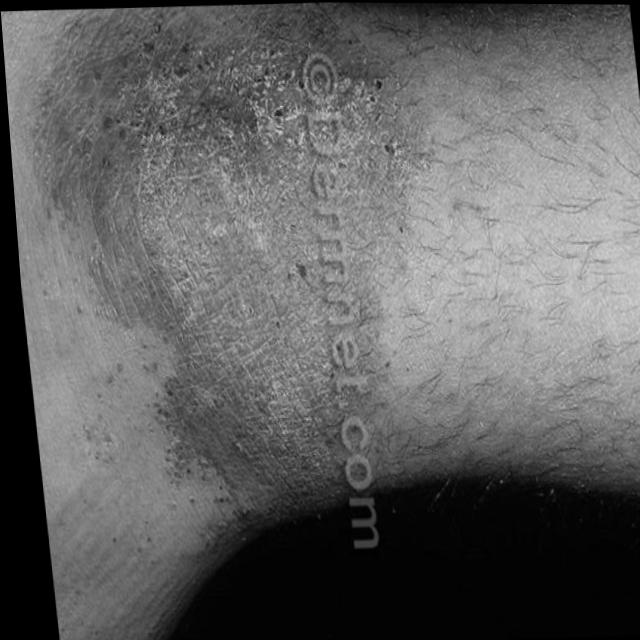Eczema: (90, 1, 440, 483)
